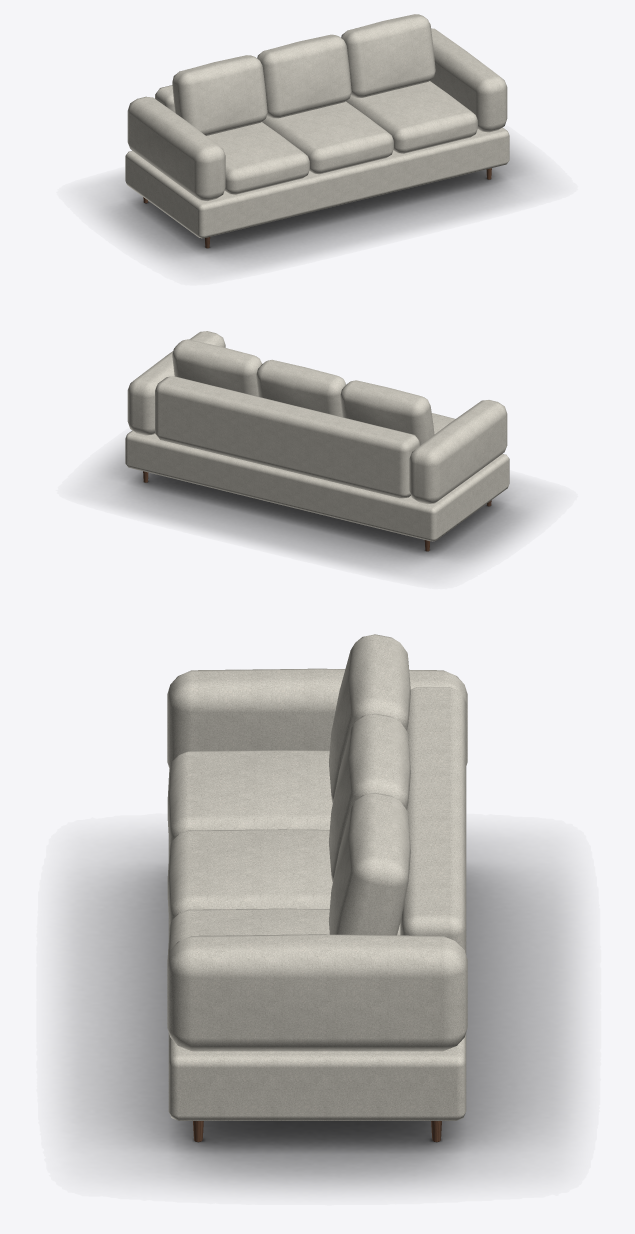
The model's file is sofa.glb.
The picture shows the model from 3 angles, top to bottom: view 1: azimuth 30°, elevation 25°; view 2: azimuth 150°, elevation 25°; view 3: azimuth 270°, elevation 25°; orthographic projection. The views are drawn at different scales.
Parts seen in each view (by area): view 1: sofa_LOD0, sofa_Shadow; view 2: sofa_LOD0, sofa_Shadow; view 3: sofa_LOD0, sofa_Shadow.
Part boxes in pixels (box(x1,y1,x2,y2)): sofa_LOD0: box(125, 14, 509, 248); sofa_Shadow: box(96, 144, 538, 269); sofa_LOD0: box(125, 331, 509, 551); sofa_Shadow: box(96, 447, 538, 573); sofa_LOD0: box(167, 634, 467, 1141); sofa_Shadow: box(67, 837, 573, 1188).
Size of what is drawn, in the model's own units: 3.04 by 0.8798 by 1.83.
Materials: 3 (3 with a texture image).
